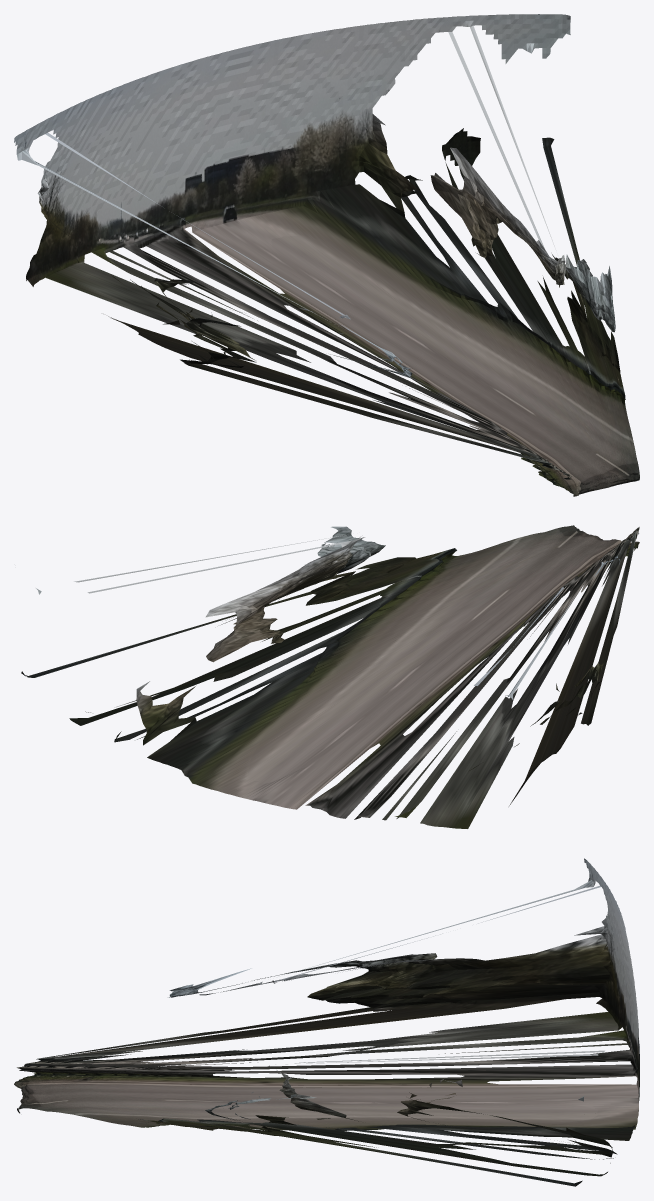
The picture shows the model from 3 angles, top to bottom: view 1: azimuth 30°, elevation 25°; view 2: azimuth 150°, elevation 25°; view 3: azimuth 270°, elevation 25°; orthographic projection. The views are drawn at different scales.
Parts seen in each view (by area): view 1: defaultobject; view 2: defaultobject; view 3: defaultobject.
Boxes of the visible parts, x1,y1,x2,y2 form: defaultobject: (14,14,639,496); defaultobject: (21,525,639,828); defaultobject: (14,858,639,1186).
Size of the model in its own units: 37.75 by 11.93 by 44.71.
1 material, 1 textured.
